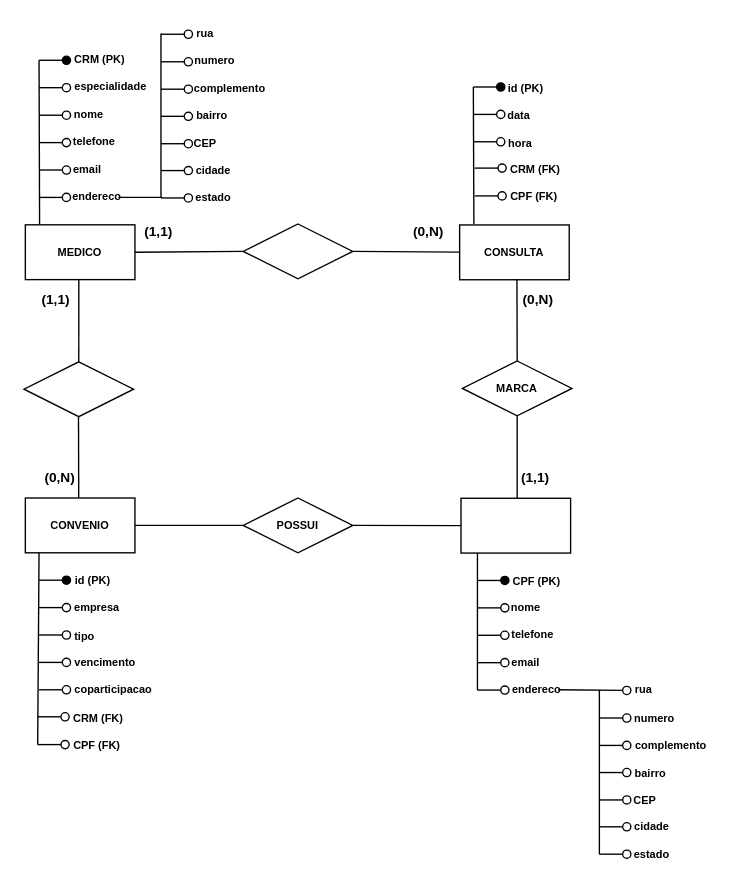
Image size: 729x889. Some labels were removed from this diagram. The shapes that lost their labels are listed below. From the top down, each one's centre as x and y in pixels, then its label:
point (297, 251): REALIZA
point (78, 388): ATENDE
point (515, 525): PACIENTE
